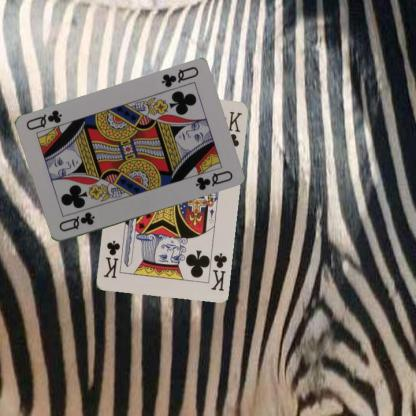Kc: (208, 250, 228, 292)
Qc: (158, 64, 200, 89), (56, 210, 97, 233)
